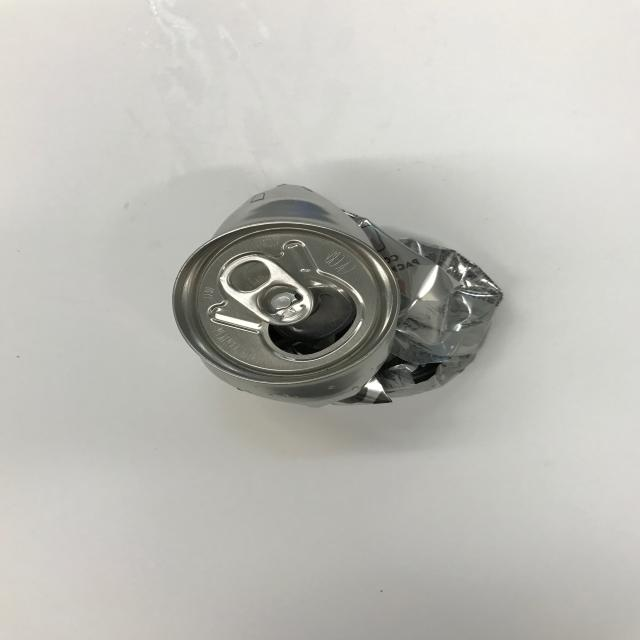metal: (171, 182, 503, 408)
